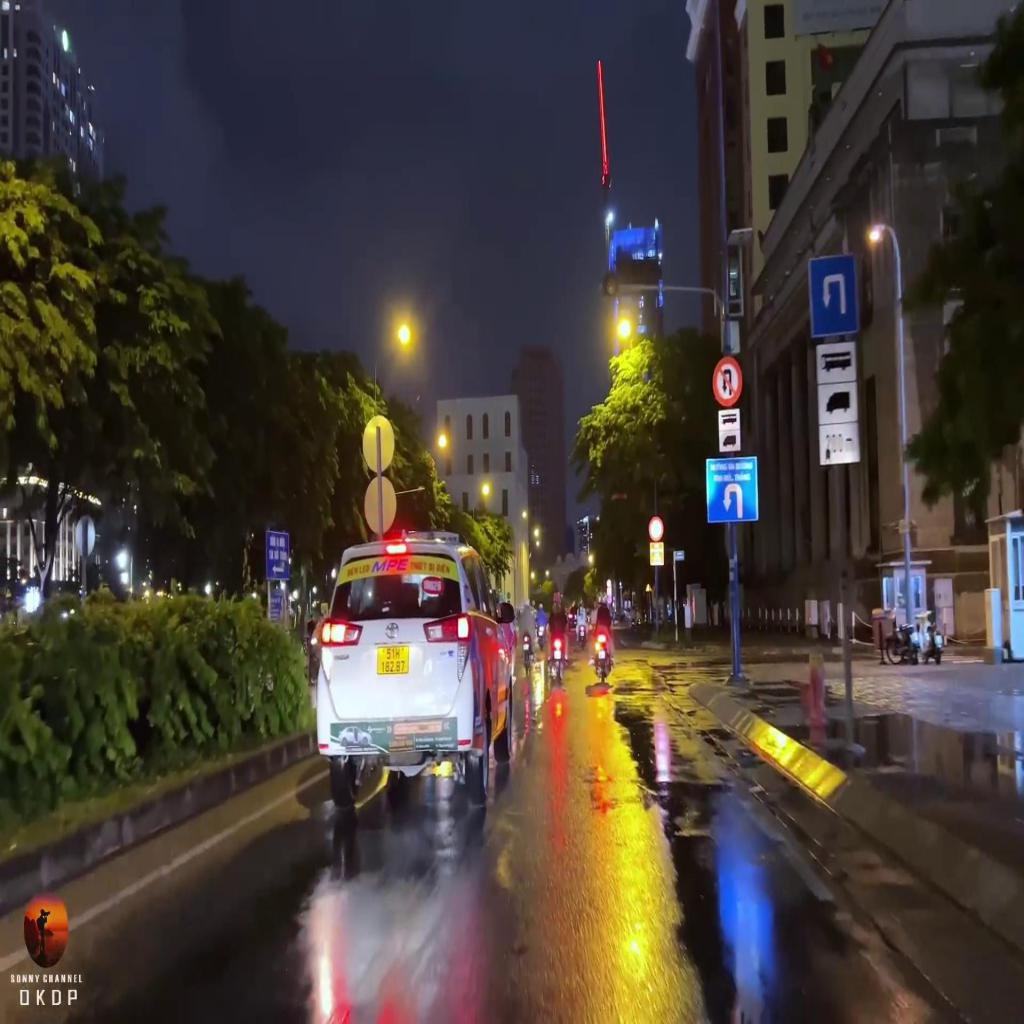cam_quay_dau_xe: (712, 356, 742, 406)
cho_quay_xe: (808, 255, 859, 335), (722, 482, 744, 522)
khac: (707, 459, 757, 523), (819, 424, 860, 465), (816, 342, 856, 384), (818, 382, 857, 424), (719, 428, 740, 452), (718, 410, 740, 430)
